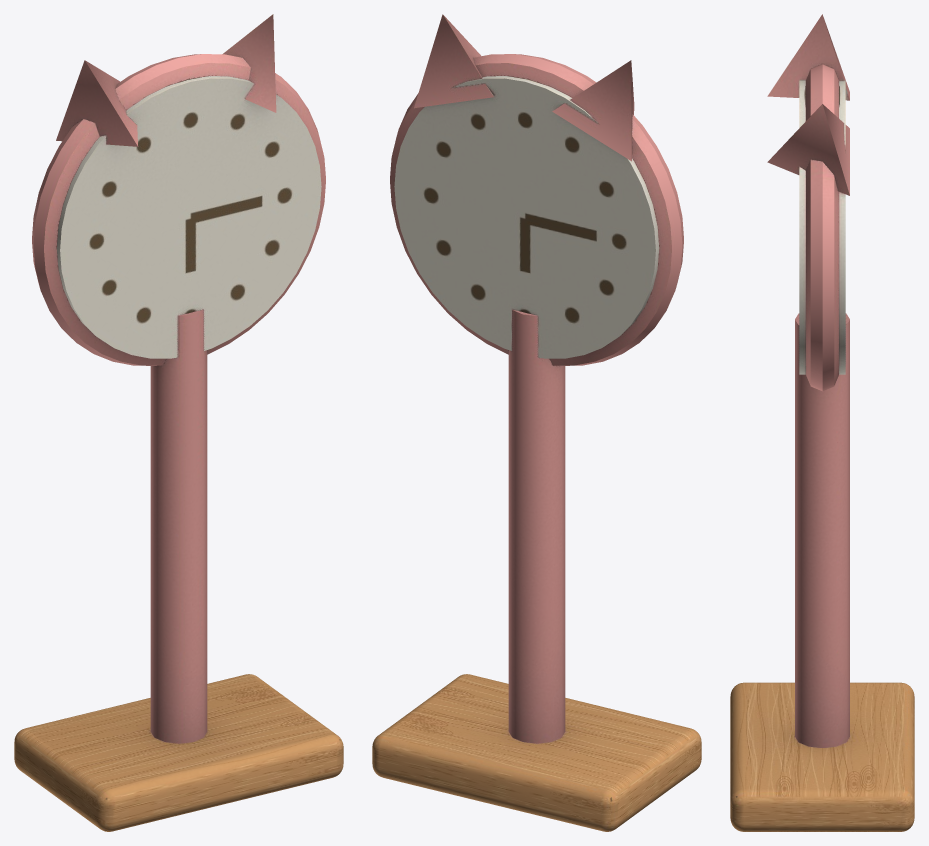
Rendered from cat_clock.glb.
3 renders of one model, left to right at view 1: azimuth 30°, elevation 25°; view 2: azimuth 150°, elevation 25°; view 3: azimuth 270°, elevation 25°, orthographic. The views are drawn at different scales.
Parts seen in each view (by area): view 1: cat_clock; view 2: cat_clock; view 3: cat_clock.
Boxes of the visible parts, bbox=[...] form: cat_clock: bbox=[14, 14, 343, 831]; cat_clock: bbox=[372, 14, 701, 831]; cat_clock: bbox=[730, 14, 914, 831].
Bounding box in the file's own units: 0.356 × 0.8623 × 0.2.
1 material, 1 textured.
